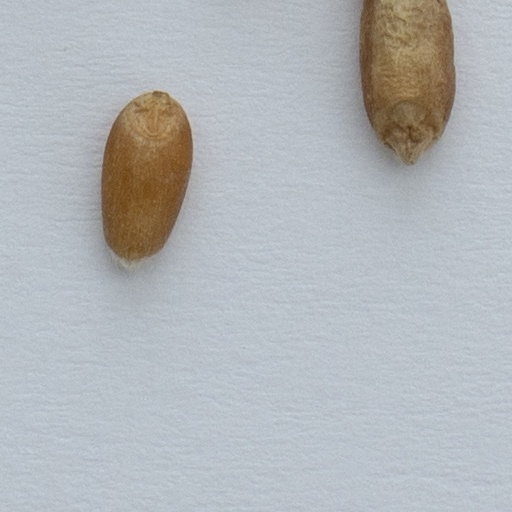Wheat-grain-poly: (97, 86, 194, 267)
